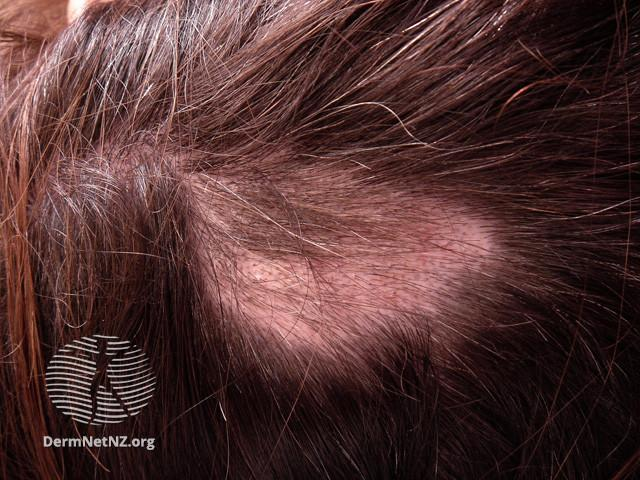Alopecia Areata: (197, 167, 496, 354)
